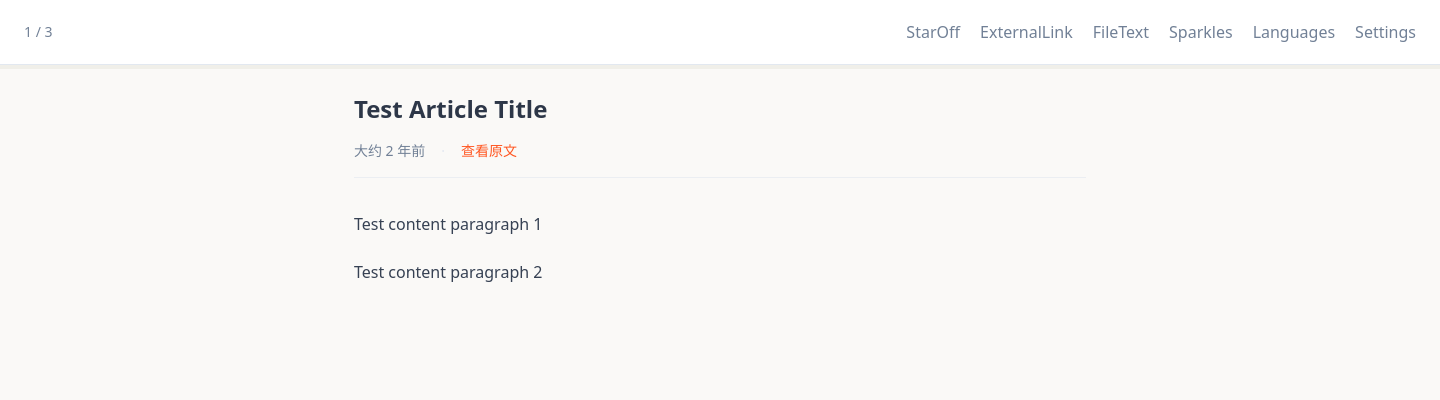
Scenario: ArticleViewer › AI summary card › should display AI summary card when summary exists
Click the button titled "生成 AI 摘要" at [1201, 32], box x1=1161 y1=12 x2=1241 y2=52
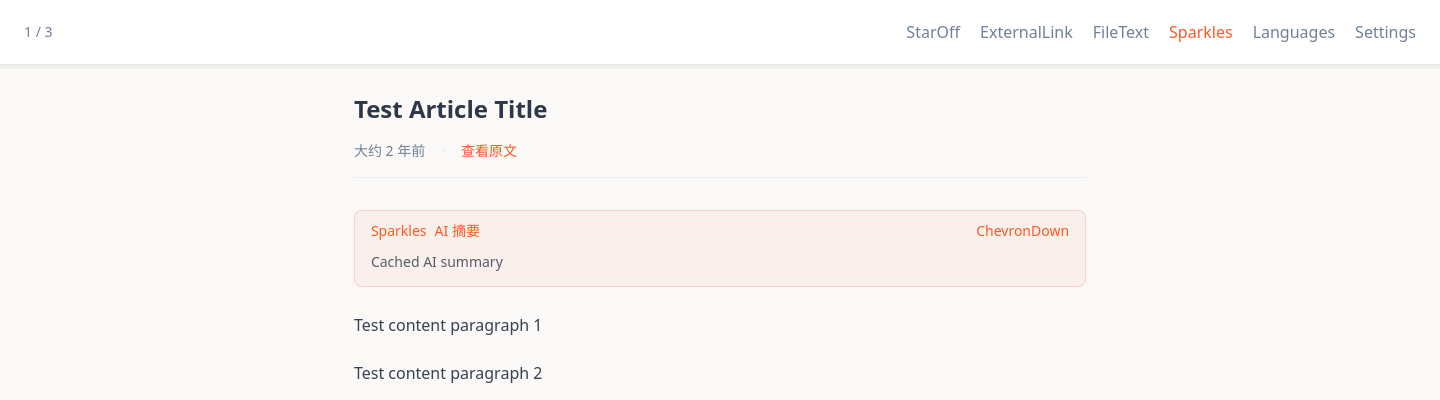
Check: the element with test id "ai-summary-card" is shown, box x1=354 y1=210 x2=1086 y2=287
Check: the text with test id "ai-summary-content" reads "Cached AI summary", box x1=371 y1=252 x2=503 y2=271
